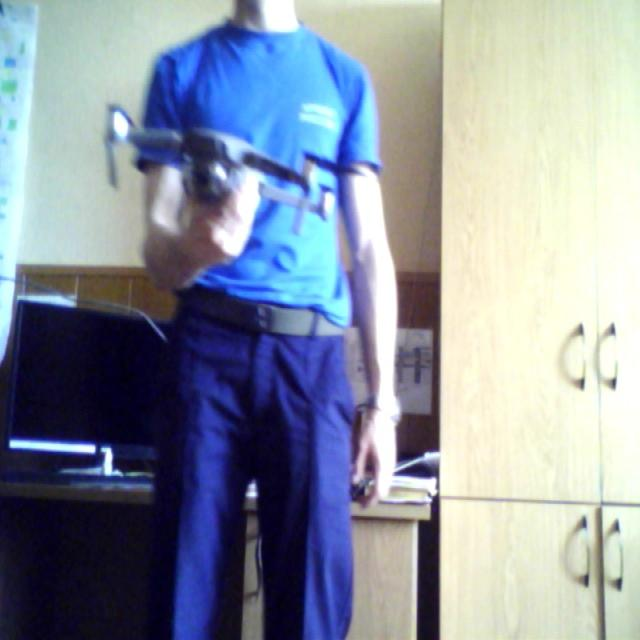drone: (84, 90, 374, 249)
